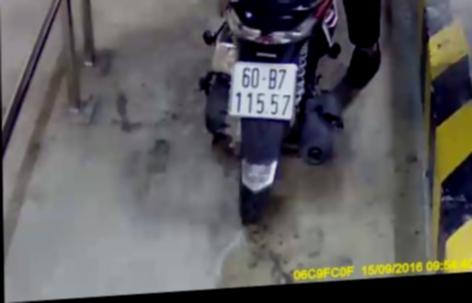License_Plate: (220, 53, 305, 131)
